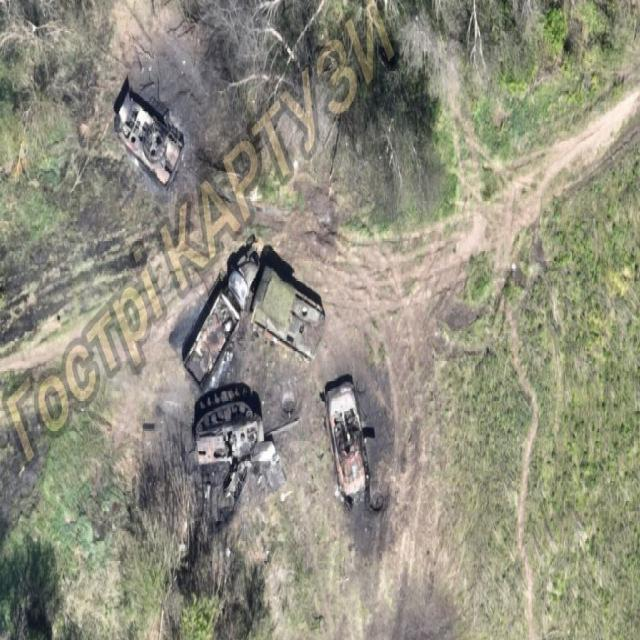APC-IFV: (252, 270, 326, 363), (114, 91, 182, 187), (322, 379, 369, 499)
TRUCK: (184, 246, 258, 394)
